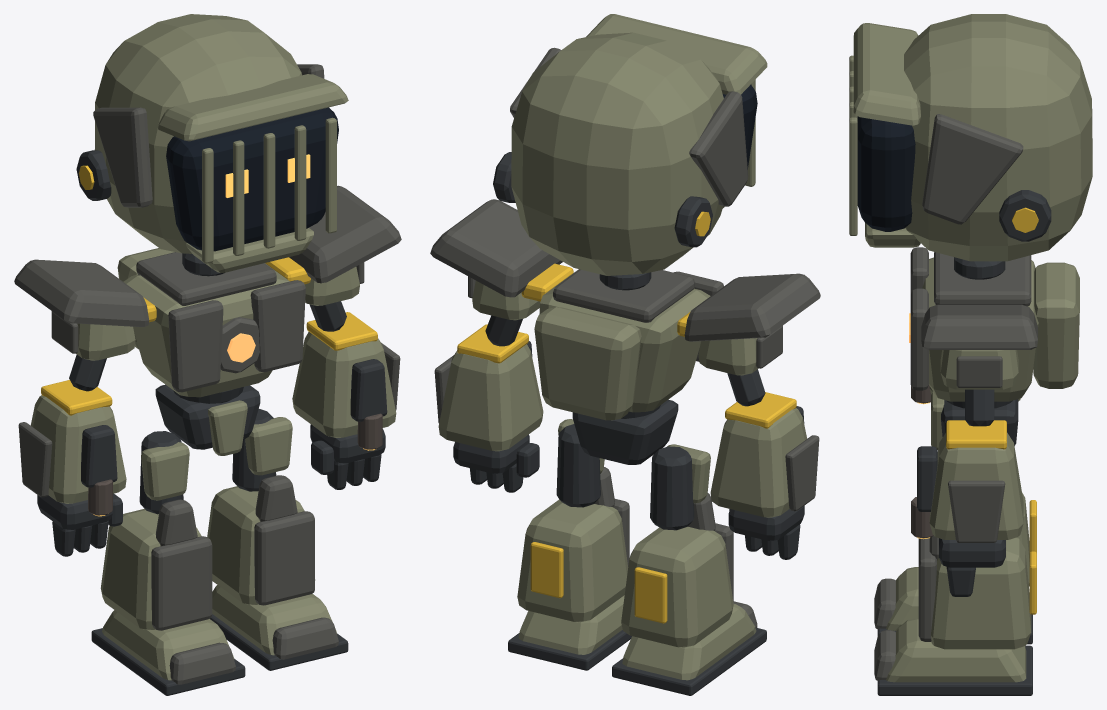
Rendered from couraca.glb.
3 renders of one model, left to right at view 1: azimuth 30°, elevation 25°; view 2: azimuth 150°, elevation 25°; view 3: azimuth 270°, elevation 25°, orthographic. The views are drawn at different scales.
Parts seen in each view (by area): view 1: cabeca_p, visor, testa, ombreira.001, antebraco, ombreira, caneleira.001, bota.001, caneleira, tronco_p, bota, antebraco.001 (+44 smaller); view 2: cabeca_p, mochila, bota.001, bota, antebraco, antebraco.001, ombreira, ombreira.001, tronco_p, gola, testa, pe.001 (+27 smaller); view 3: cabeca_p, bota, placa_lado, visor, testa, mochila, pe, antebraco, ombreira, gola, bracelete, tronco_p (+25 smaller).
Boxes of the visible parts, x1=… form: cabeca_p: x1=94, y1=14, x2=301, y2=253; visor: x1=166, y1=107, x2=338, y2=251; testa: x1=158, y1=74, x2=348, y2=141; ombreira.001: x1=14, y1=259, x2=149, y2=326; antebraco: x1=292, y1=332, x2=396, y2=437; ombreira: x1=289, y1=185, x2=401, y2=283; caneleira.001: x1=151, y1=536, x2=212, y2=630; bota.001: x1=100, y1=509, x2=201, y2=629; caneleira: x1=254, y1=511, x2=314, y2=605; tronco_p: x1=123, y1=263, x2=289, y2=397; bota: x1=207, y1=486, x2=315, y2=604; antebraco.001: x1=30, y1=395, x2=126, y2=503; cabeca_p: x1=511, y1=32, x2=723, y2=275; mochila: x1=534, y1=307, x2=641, y2=420; bota.001: x1=621, y1=526, x2=733, y2=647; bota: x1=517, y1=499, x2=628, y2=622; antebraco: x1=438, y1=344, x2=543, y2=451; antebraco.001: x1=710, y1=408, x2=807, y2=517; ombreira: x1=430, y1=199, x2=562, y2=297; ombreira.001: x1=684, y1=273, x2=820, y2=341; tronco_p: x1=539, y1=269, x2=710, y2=412; gola: x1=553, y1=269, x2=694, y2=322; testa: x1=586, y1=14, x2=767, y2=94; pe.001: x1=622, y1=603, x2=756, y2=680; cabeca_p: x1=904, y1=14, x2=1092, y2=261; bota: x1=930, y1=537, x2=1031, y2=649; placa_lado: x1=922, y1=114, x2=1023, y2=224; visor: x1=857, y1=116, x2=915, y2=231; testa: x1=853, y1=23, x2=920, y2=125; mochila: x1=1033, y1=262, x2=1079, y2=388; pe: x1=886, y1=618, x2=1026, y2=682; antebraco: x1=929, y1=432, x2=1023, y2=539; ombreira: x1=921, y1=304, x2=1037, y2=349; gola: x1=934, y1=252, x2=1031, y2=306; bracelete: x1=948, y1=480, x2=1005, y2=542; tronco_p: x1=922, y1=257, x2=1038, y2=401.
Size of the model in its own units: 0.692 by 1.13 by 0.3996.
